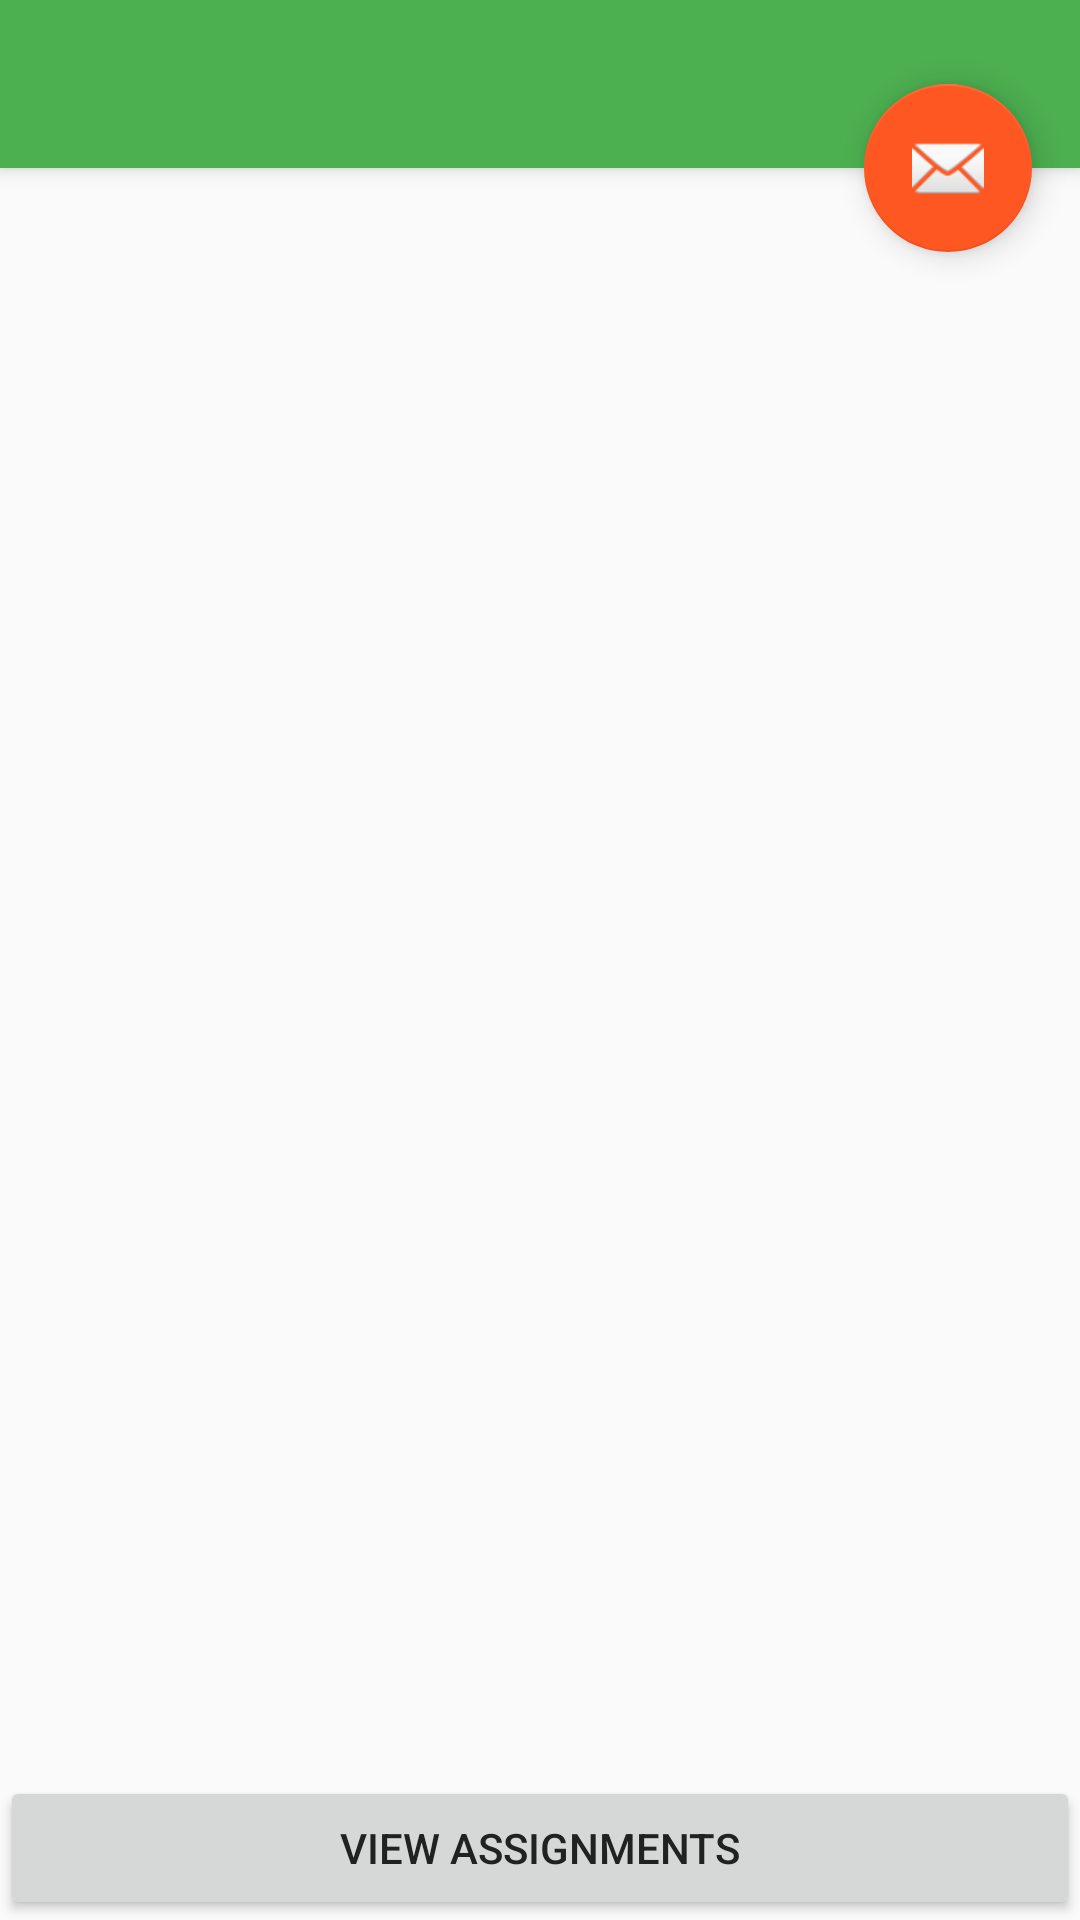

Icons on this 1080px x 1920px Android screen, each with the point to tap as [x,y]:
email: [948,168]
